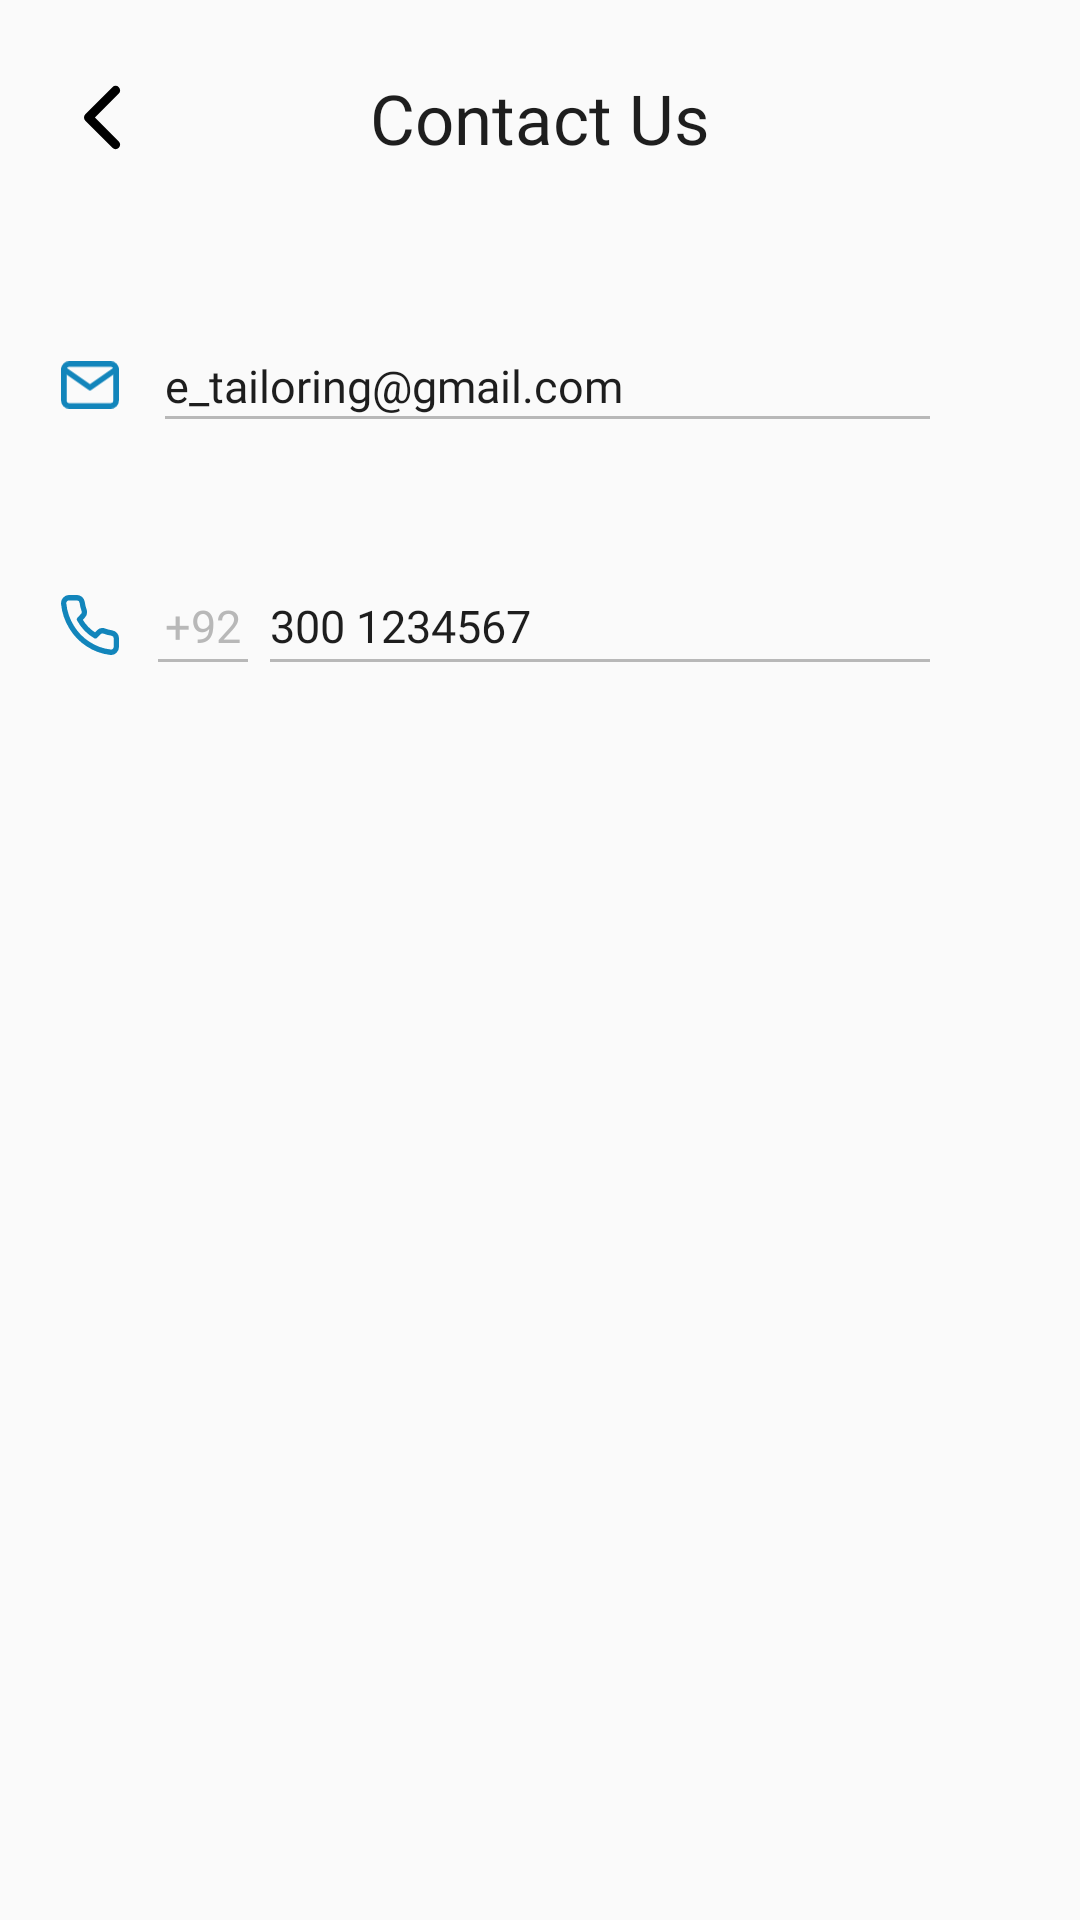

Named icons in this screenshot (1080w x 1920h) and their centers, point (x, y):
back: point (102, 117)
feather mail: point (90, 385)
feather phone: point (90, 625)
